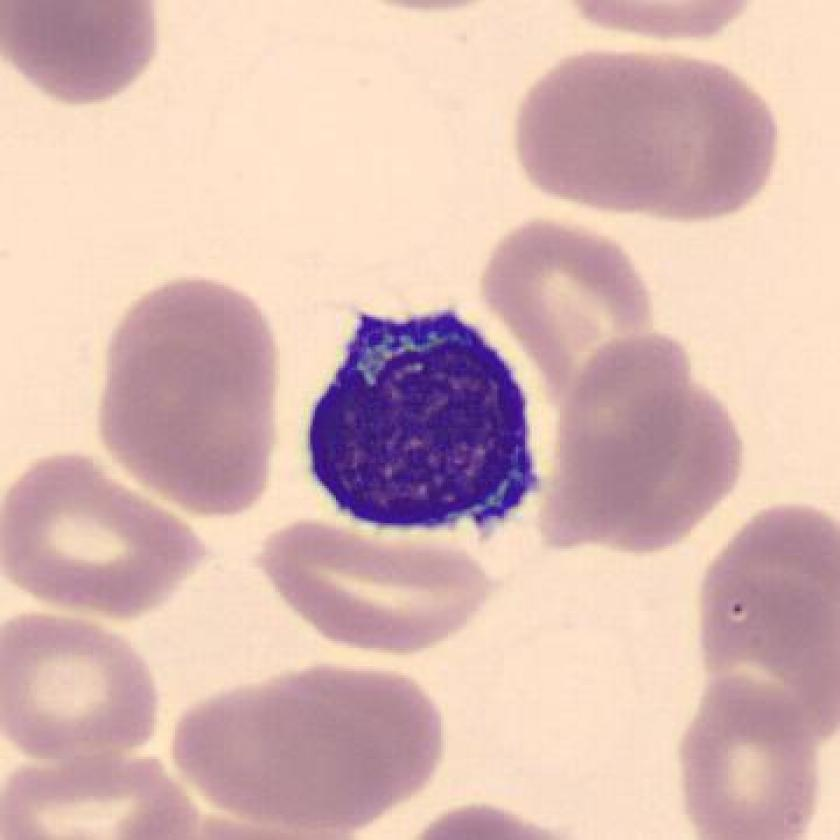lymphocyte: (293, 288, 547, 552)
